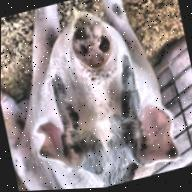boar: (0, 0, 185, 192)
